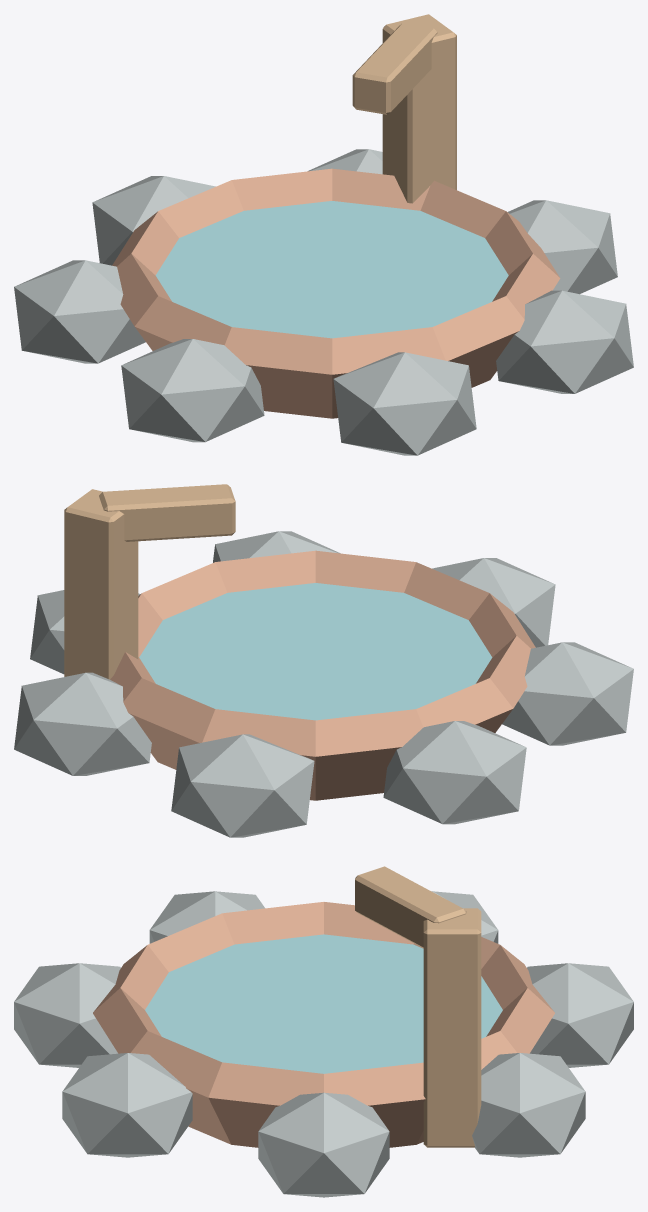
File: water_bowl.fbx
3 renders of one model, top to bottom at view 1: azimuth 30°, elevation 25°; view 2: azimuth 150°, elevation 25°; view 3: azimuth 270°, elevation 25°, orthographic.
Parts seen in each view (by area): view 1: water_bowl_mesh; view 2: water_bowl_mesh; view 3: water_bowl_mesh.
Boxes of the visible parts, bbox=[...] form: water_bowl_mesh: bbox=[14, 14, 633, 455]; water_bowl_mesh: bbox=[14, 484, 633, 837]; water_bowl_mesh: bbox=[14, 866, 633, 1197].
Size of the model in its own units: 1.95 by 0.865 by 1.93.
